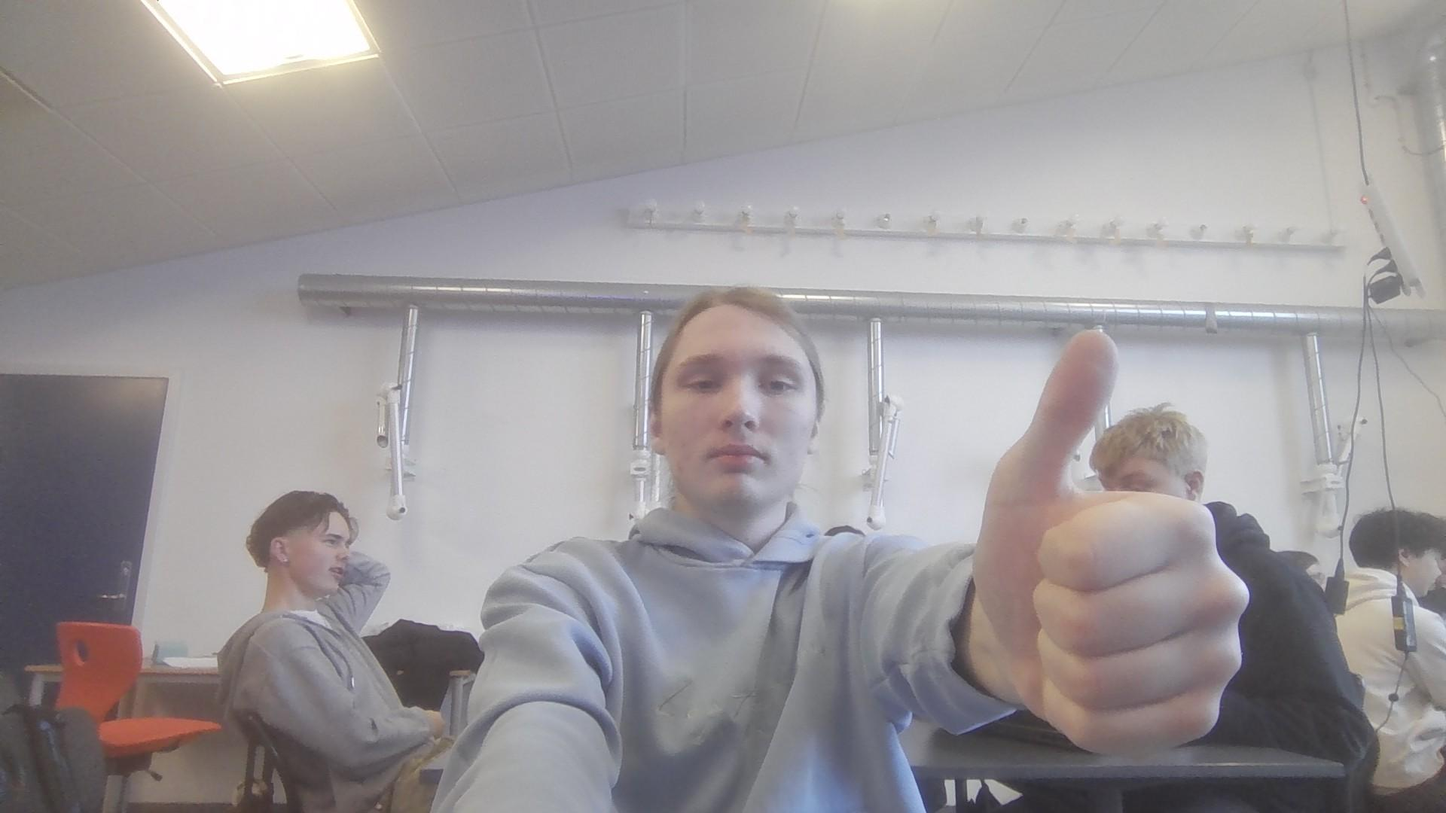thumbs up: (958, 322, 1250, 755)
